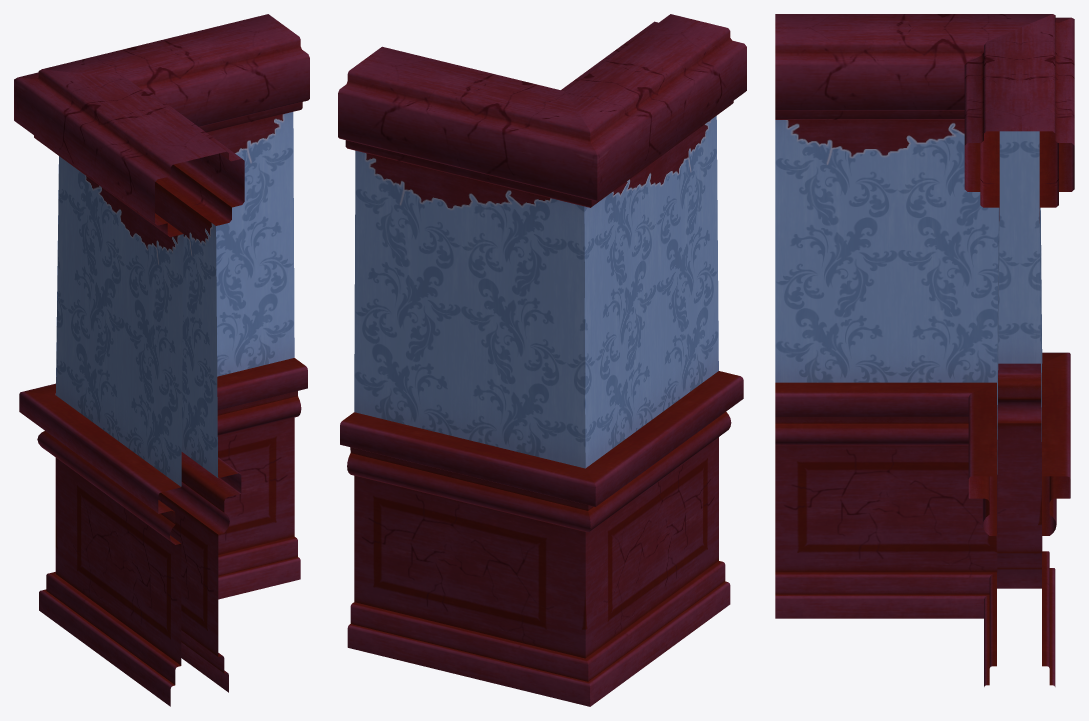
File: Wall_corner.fbx
The picture shows the model from 3 angles, left to right: view 1: azimuth 30°, elevation 25°; view 2: azimuth 150°, elevation 25°; view 3: azimuth 270°, elevation 25°; orthographic projection. The views are drawn at different scales.
Visible parts, largest first — view 1: Wall_corner; view 2: Wall_corner; view 3: Wall_corner.
Boxes of the visible parts, x1,y1,x2,y2 form: Wall_corner: (14,14,309,706); Wall_corner: (338,14,746,706); Wall_corner: (775,14,1074,686).
Size of the model in its own units: 1.22 by 2.6 by 1.22.
